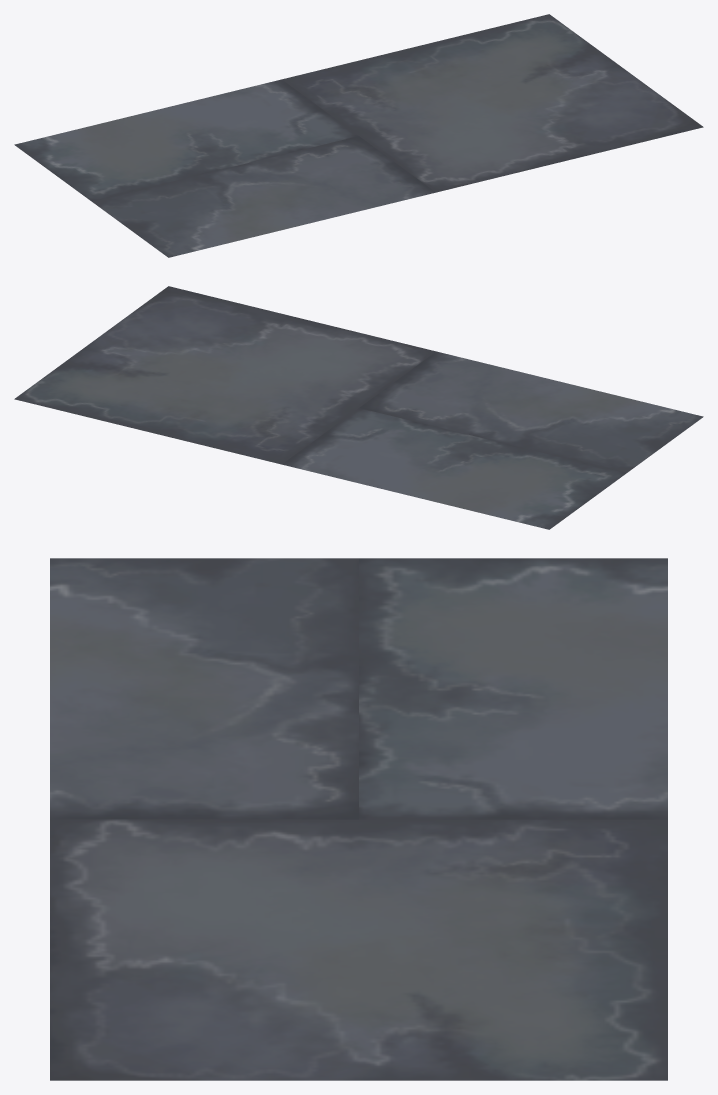
File: Castle Ground X Dark 2x1.fbx
3 renders of one model, top to bottom at view 1: azimuth 30°, elevation 25°; view 2: azimuth 150°, elevation 25°; view 3: azimuth 270°, elevation 25°, orthographic. The views are drawn at different scales.
Parts seen in each view (by area): view 1: Castle Ground X Dark 2x1; view 2: Castle Ground X Dark 2x1; view 3: Castle Ground X Dark 2x1.
Boxes of the visible parts, bbox=[...] form: Castle Ground X Dark 2x1: bbox=[14, 14, 703, 257]; Castle Ground X Dark 2x1: bbox=[14, 286, 703, 529]; Castle Ground X Dark 2x1: bbox=[50, 558, 667, 1080].
Bounding box in the file's own units: 1.5 × 2.34e-07 × 0.75.
